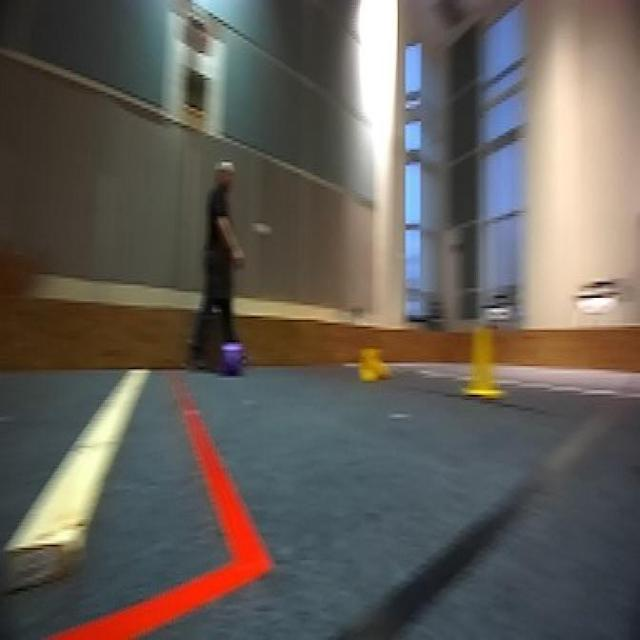frc_cone: (452, 325, 506, 398), (358, 349, 395, 385)
frc_cube: (224, 342, 245, 375)
